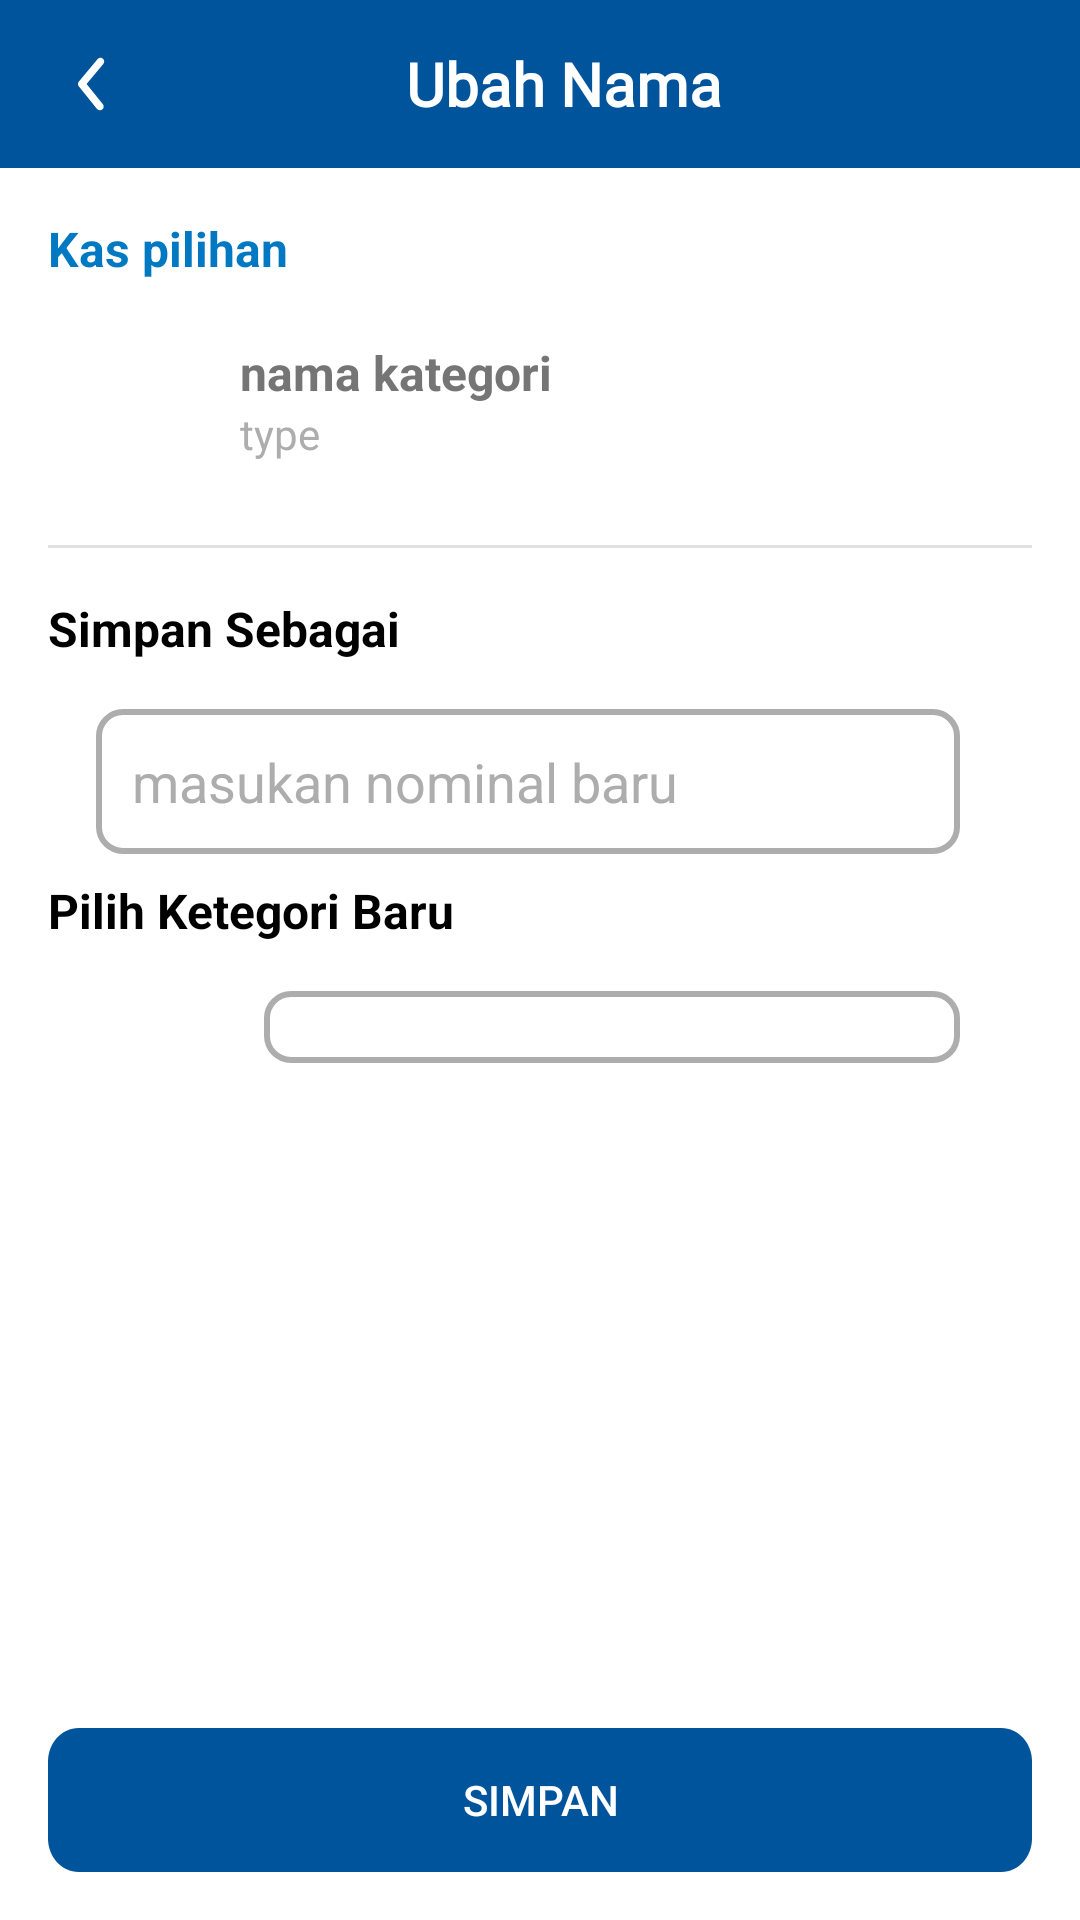

Icons on this 1080*1920 Android screen, each with its box as {"x1": x1, "y1": y1, "x2": x2, "y2": y2}:
back arrow: {"x1": 78, "y1": 57, "x2": 105, "y2": 111}
